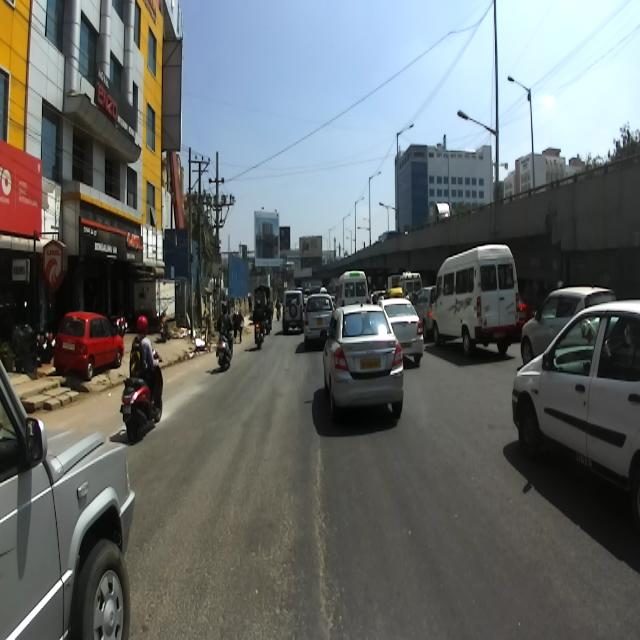car ahead at: (514, 304, 640, 476), (322, 304, 408, 436)
motorcycle ahead at: (118, 364, 166, 447)
